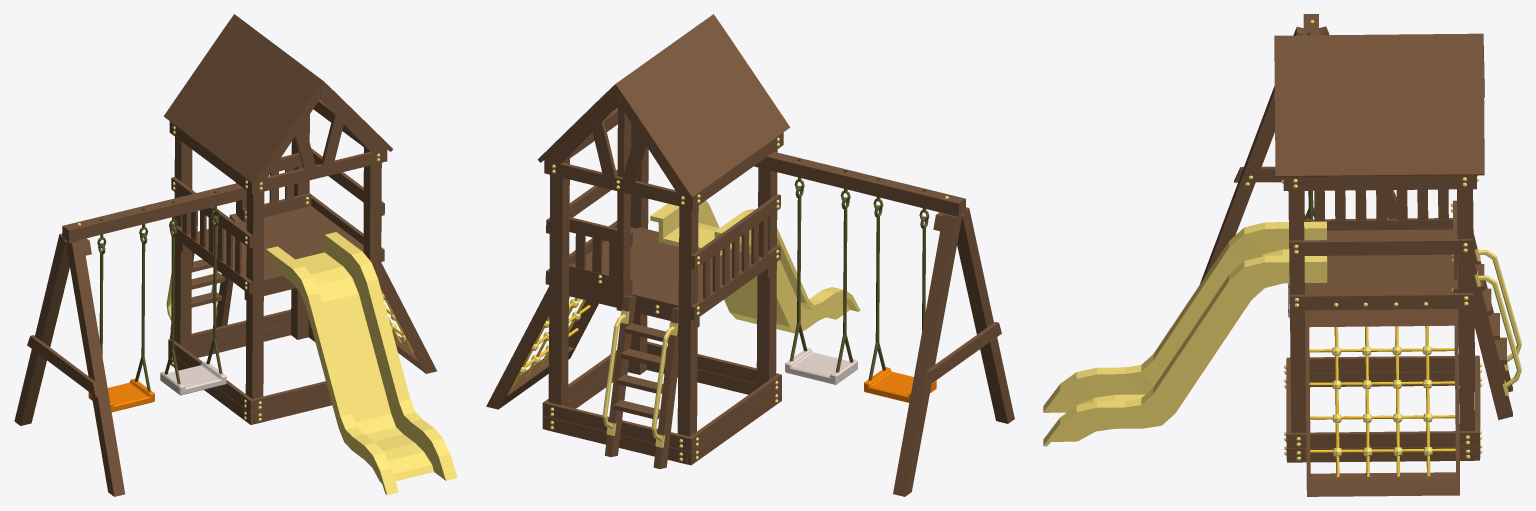
File: Isl_9_Children_complex.fbx
The picture shows the model from 3 angles, left to right: view 1: azimuth 30°, elevation 25°; view 2: azimuth 150°, elevation 25°; view 3: azimuth 270°, elevation 25°; orthographic projection. The views are drawn at different scales.
Parts seen in each view (by area): view 1: Isl_9_Children_complex; view 2: Isl_9_Children_complex; view 3: Isl_9_Children_complex.
Boxes of the visible parts, x1,y1,x2,y2 form: Isl_9_Children_complex: [14, 14, 457, 496]; Isl_9_Children_complex: [486, 14, 1014, 496]; Isl_9_Children_complex: [1043, 14, 1521, 496].
Size of the model in its own units: 508 by 482 by 436.
Materials: 1 (1 with a texture image).
